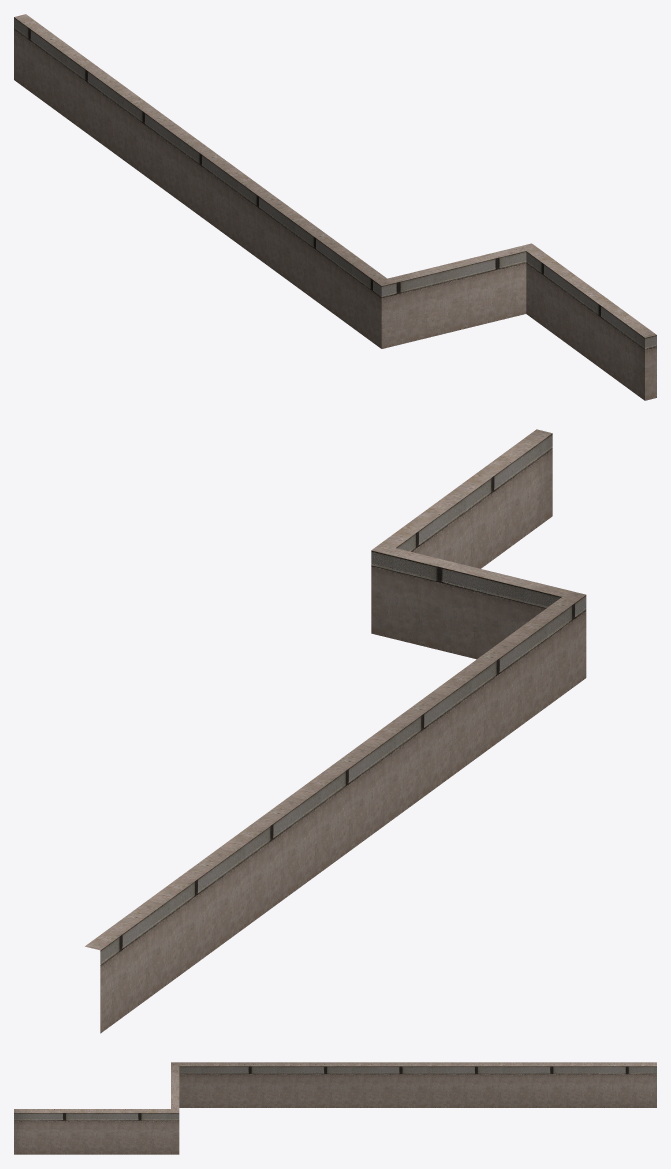
File: M2Z4_BlockingWall1.glb
3 renders of one model, top to bottom at view 1: azimuth 30°, elevation 25°; view 2: azimuth 150°, elevation 25°; view 3: azimuth 270°, elevation 25°, orthographic. The views are drawn at different scales.
Visible parts, largest first — view 1: M2Z4_BLOCKINGWALL1; view 2: M2Z4_BLOCKINGWALL1; view 3: M2Z4_BLOCKINGWALL1.
Part boxes in pixels (x1,y1,x2,y2): M2Z4_BLOCKINGWALL1: (14,14,656,400); M2Z4_BLOCKINGWALL1: (85,429,586,1033); M2Z4_BLOCKINGWALL1: (14,1062,656,1154).
Size of the model in its own units: 6.5 by 2.5 by 35.
Materials: 2 (2 with a texture image).
